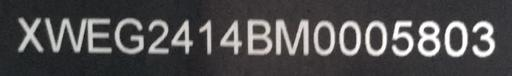letter: (272, 15, 312, 57), (43, 16, 87, 54), (112, 15, 144, 56), (244, 17, 274, 57), (17, 15, 45, 54), (469, 19, 497, 58), (85, 15, 113, 53), (168, 16, 196, 54), (442, 18, 470, 56), (416, 18, 442, 58), (218, 18, 244, 57), (363, 18, 389, 56), (312, 17, 336, 57), (390, 17, 414, 57), (146, 17, 170, 55), (337, 18, 361, 56), (198, 17, 214, 56)
